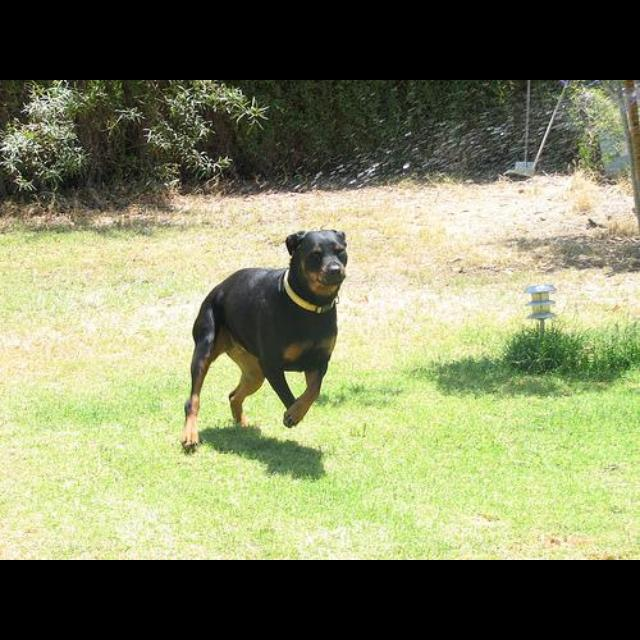rottweiler: (181, 229, 349, 451)
